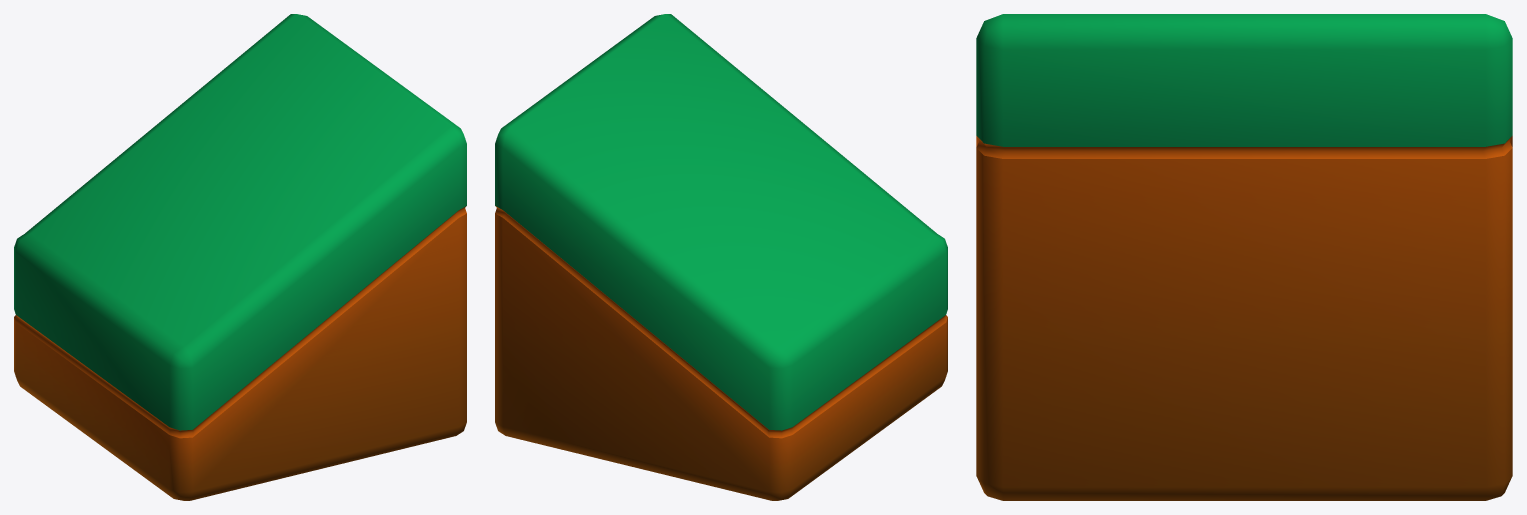
File: 3D_Tile_Ground_Slope_01v03.fbx
The picture shows the model from 3 angles, left to right: view 1: azimuth 30°, elevation 25°; view 2: azimuth 150°, elevation 25°; view 3: azimuth 270°, elevation 25°; orthographic projection. The views are drawn at different scales.
Visible parts, largest first — view 1: 3D_Tile_Ground_Slope_01v03; view 2: 3D_Tile_Ground_Slope_01v03; view 3: 3D_Tile_Ground_Slope_01v03.
Part boxes in pixels (bbox=[...]): 3D_Tile_Ground_Slope_01v03: bbox=[14, 14, 466, 500]; 3D_Tile_Ground_Slope_01v03: bbox=[495, 14, 947, 500]; 3D_Tile_Ground_Slope_01v03: bbox=[976, 14, 1512, 500].
Size of the model in its own units: 200 by 200 by 200.
